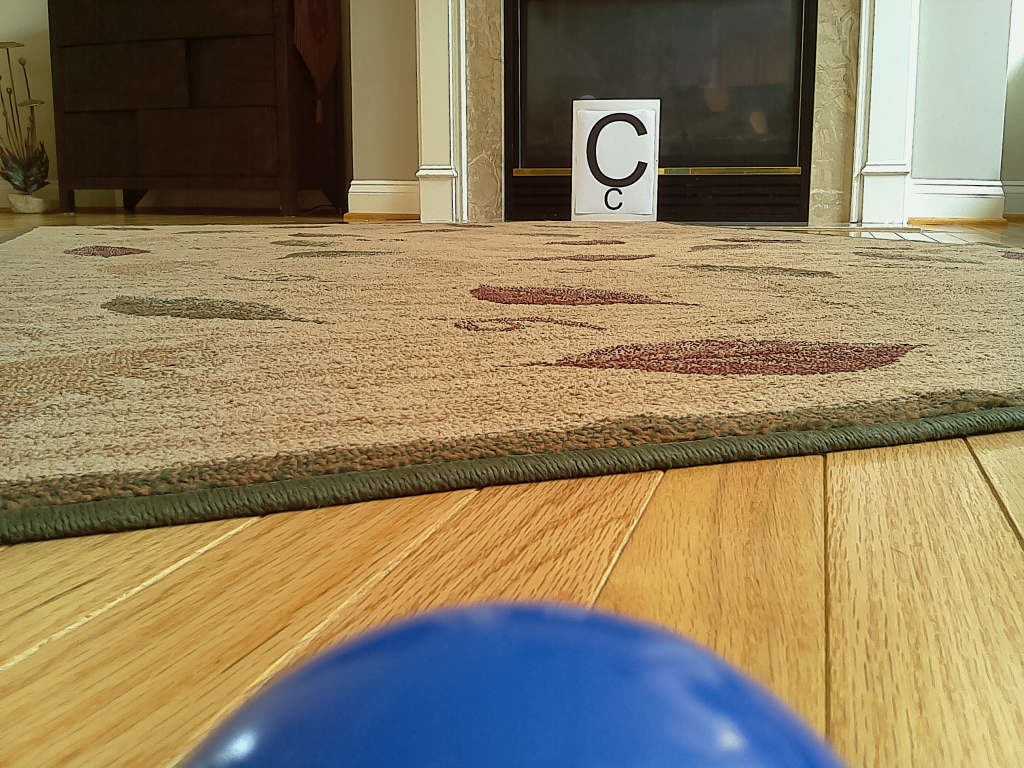letter: (587, 114, 648, 188)
